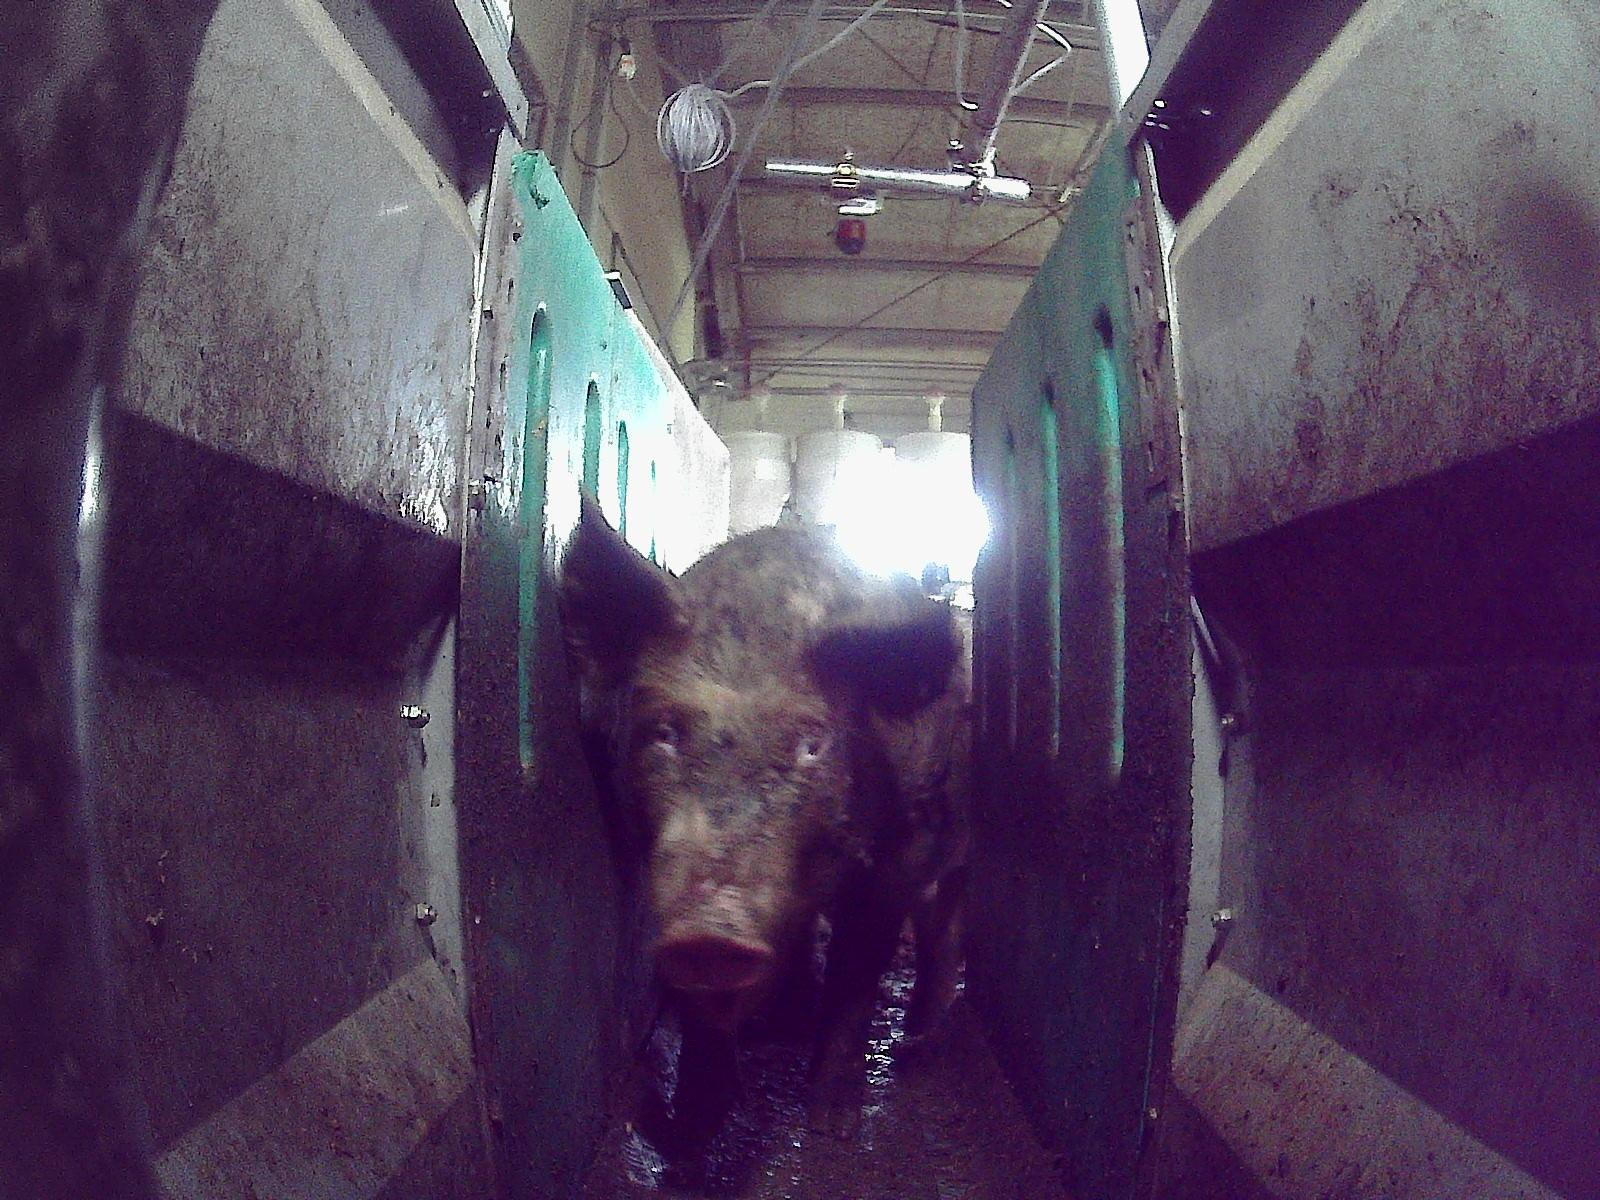Face: (622, 638, 836, 986)
